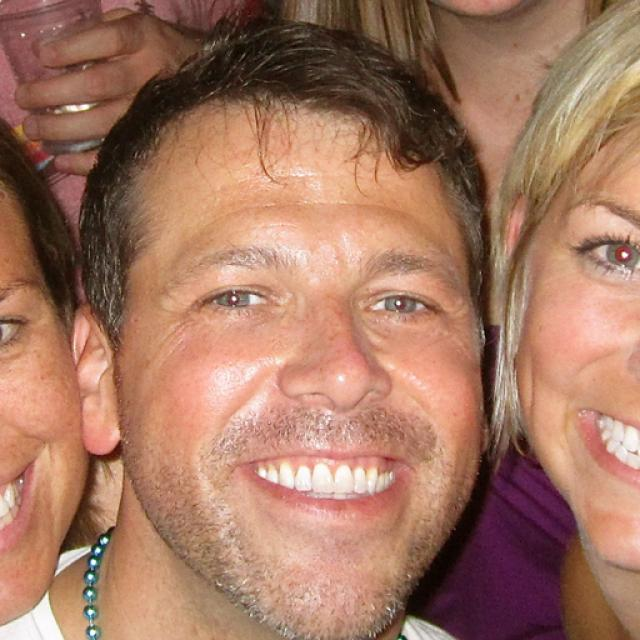Wrinkle: (204, 194, 437, 235)
